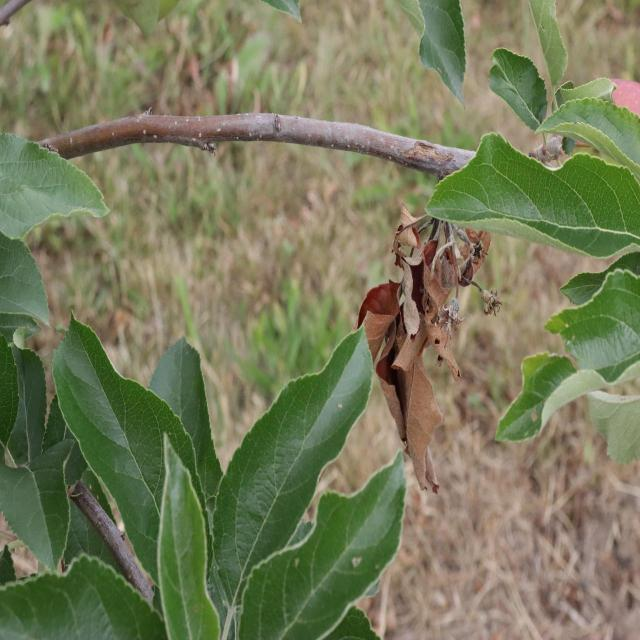-FireBlight-: (356, 204, 495, 490)
